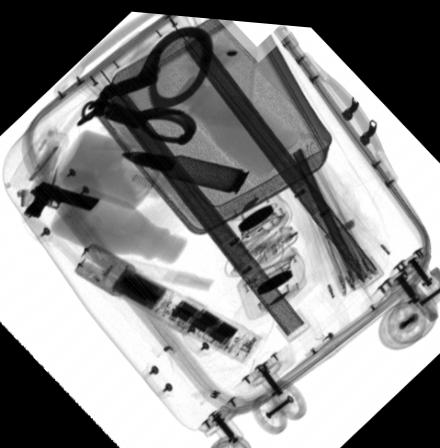Baton: (72, 241, 263, 359)
Bullet: (121, 147, 250, 192)
Gun: (23, 179, 99, 219)
HandCuffs: (75, 22, 215, 141)
